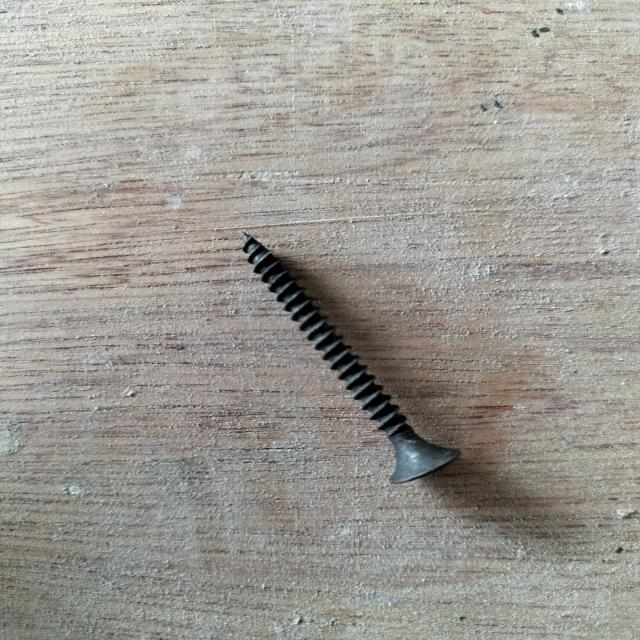screw: (239, 230, 461, 485)
